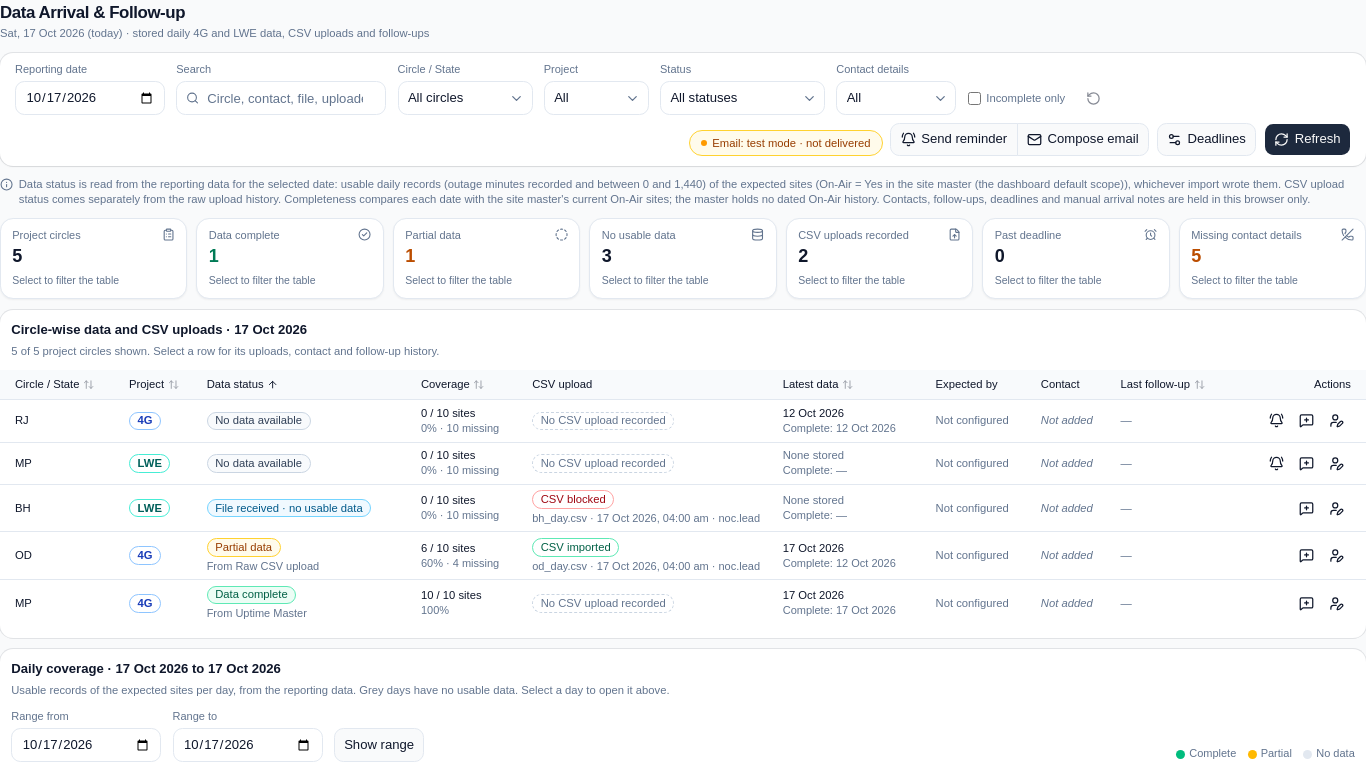
Data Arrival & Follow-up › keeps manual arrival notes as notes: they never change the status
The image size is (1366, 768).
Click the row named "MP LWE: open details".
click(683, 463)  # box [0, 442, 1365, 484]
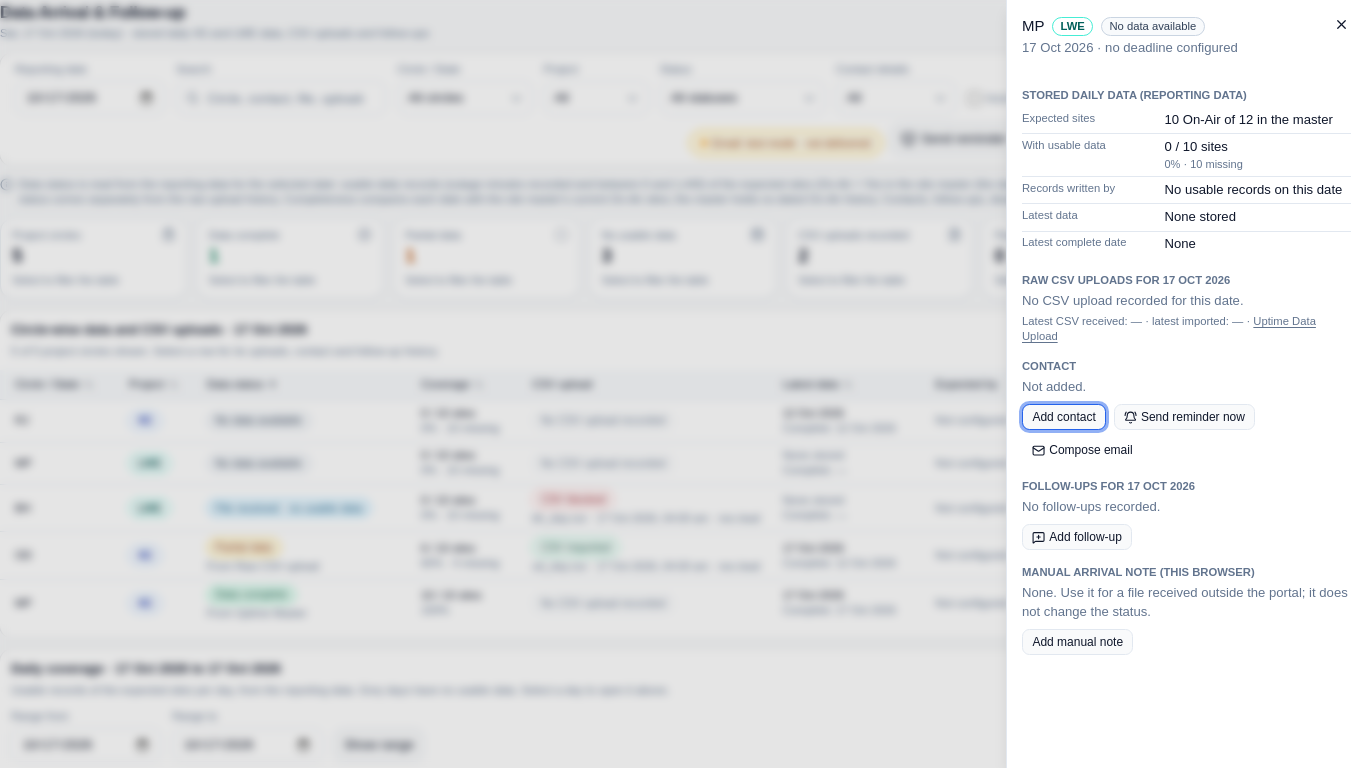
Click the button "Add manual note".
click(1078, 642)  # box [1022, 629, 1134, 655]
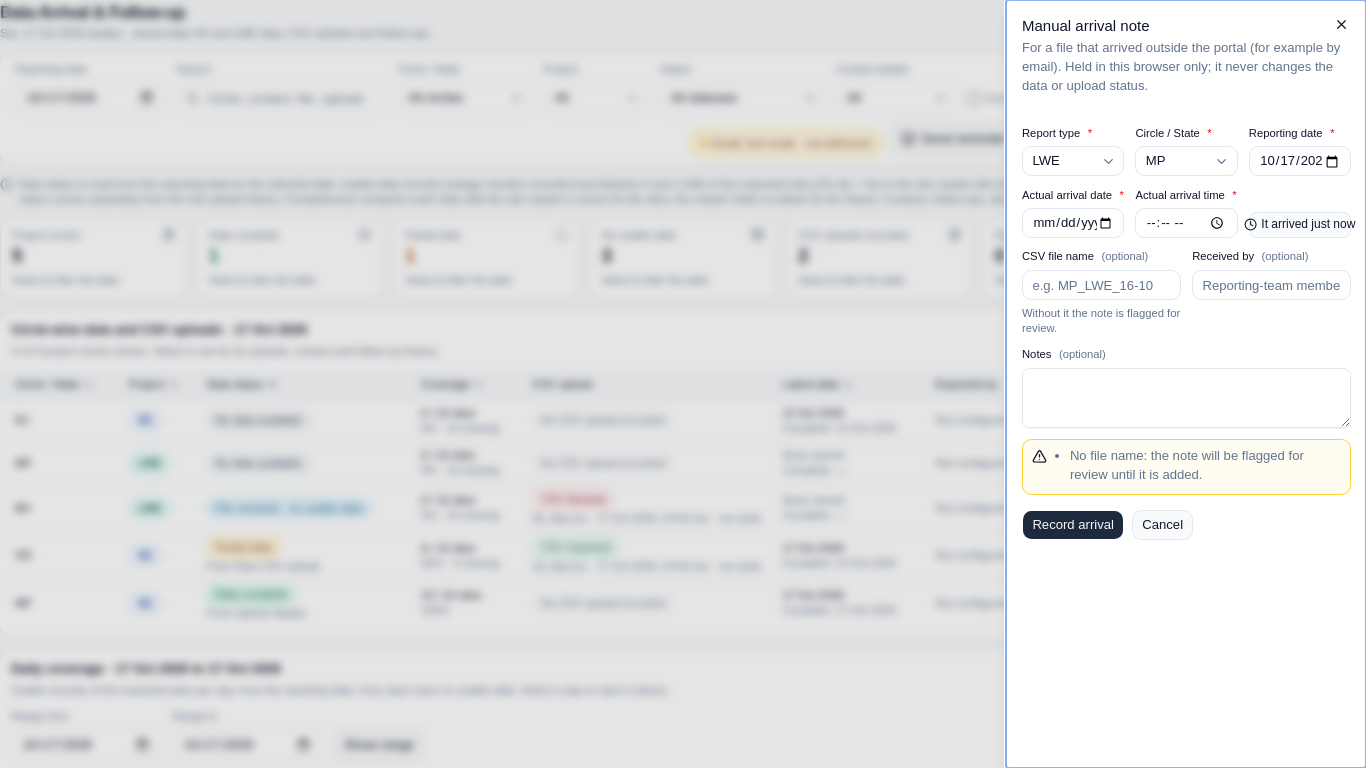
Click the button "It arrived just now".
click(1300, 225)  # box [1249, 212, 1351, 238]
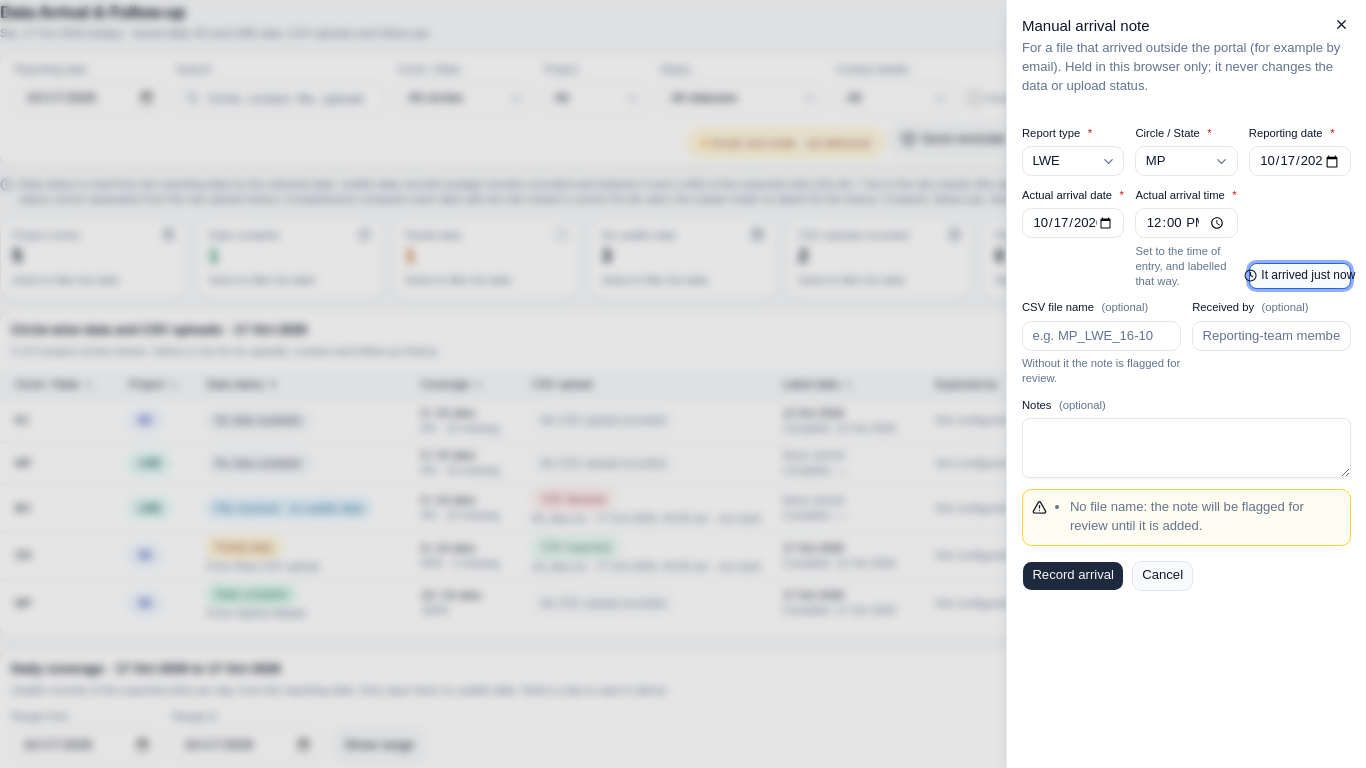
Click the button "Record arrival".
click(1073, 576)  # box [1022, 561, 1124, 591]
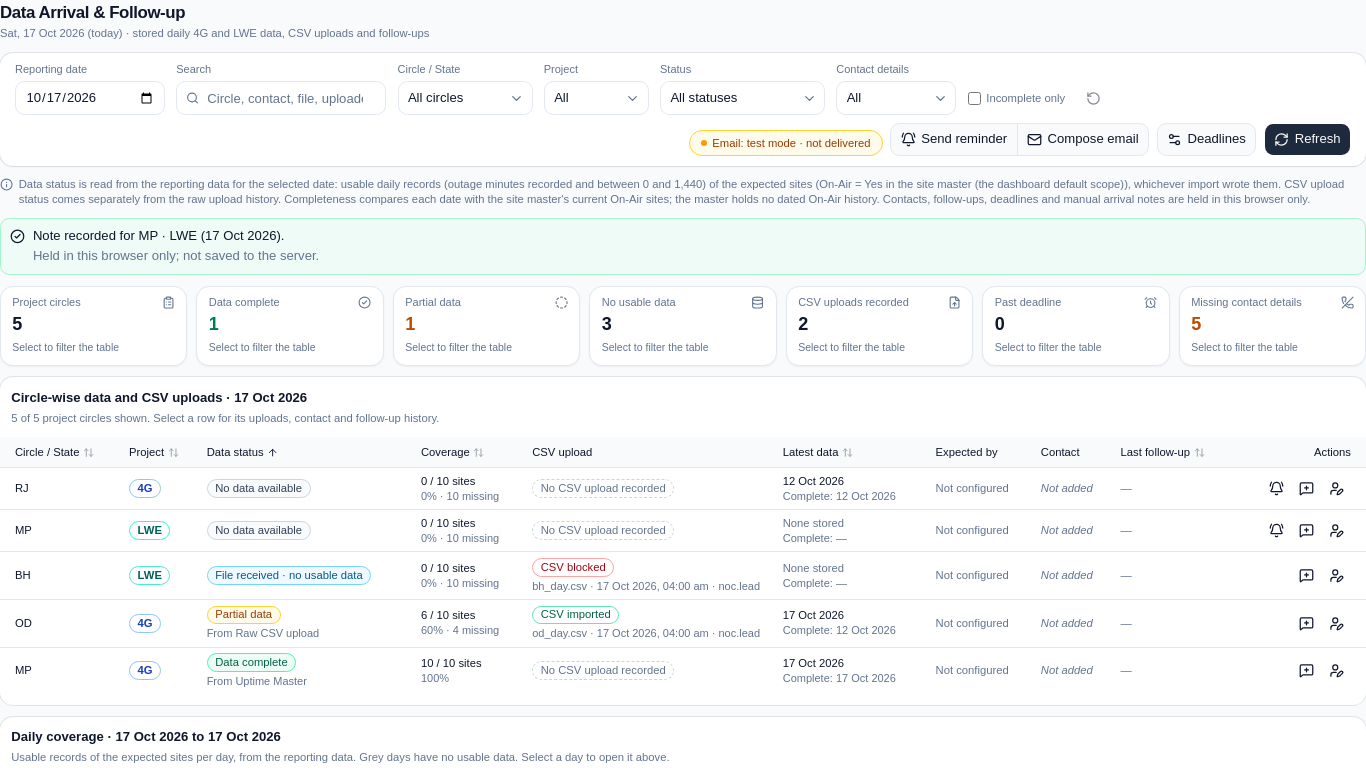
Check: the text "Note recorded for MP · LWE (17 Oct 2026)." is shown, box [33, 228, 284, 243]
Click the row named "MP LWE: open details".
click(683, 531)  # box [0, 510, 1365, 552]
(page scrolled)
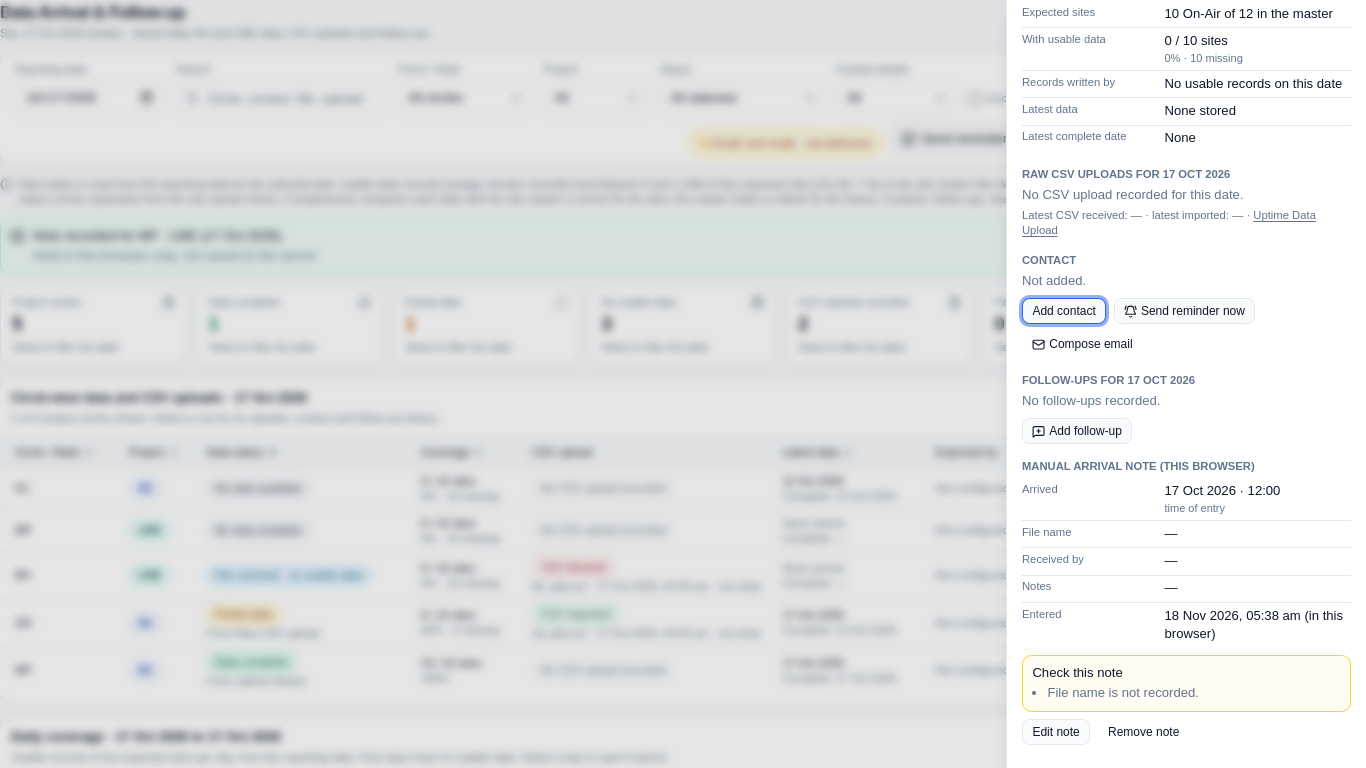
Check: the list item "File name is not recorded." is shown, box [1047, 685, 1199, 700]
